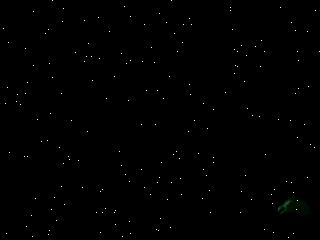Lime: (275, 195, 311, 230)
